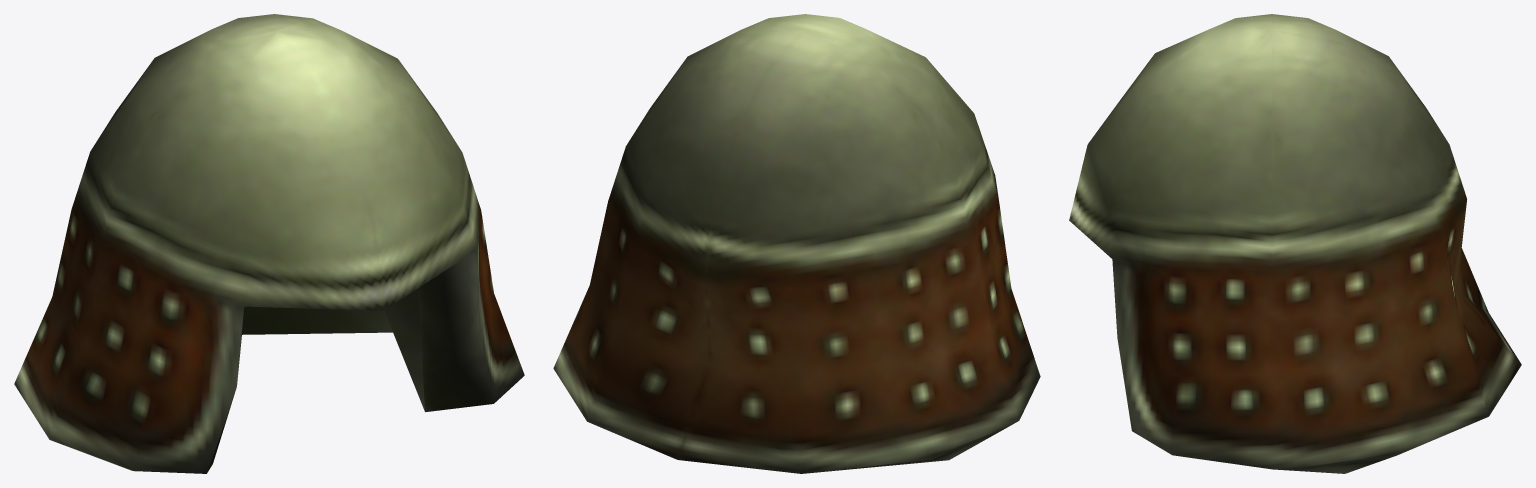
Rendered from Stage_ShaMo_kuijia04.FBX.
3 renders of one model, left to right at view 1: azimuth 30°, elevation 25°; view 2: azimuth 150°, elevation 25°; view 3: azimuth 270°, elevation 25°, orthographic. The views are drawn at different scales.
Visible parts, largest first — view 1: Stage_ShaMo_kuijia04; view 2: Stage_ShaMo_kuijia04; view 3: Stage_ShaMo_kuijia04.
Boxes of the visible parts, box(x1,y1,x2,y2) form: Stage_ShaMo_kuijia04: box(14, 14, 524, 473); Stage_ShaMo_kuijia04: box(553, 14, 1040, 473); Stage_ShaMo_kuijia04: box(1069, 14, 1521, 473).
Bounding box in the file's own units: 61.07 × 48.34 × 55.81.
